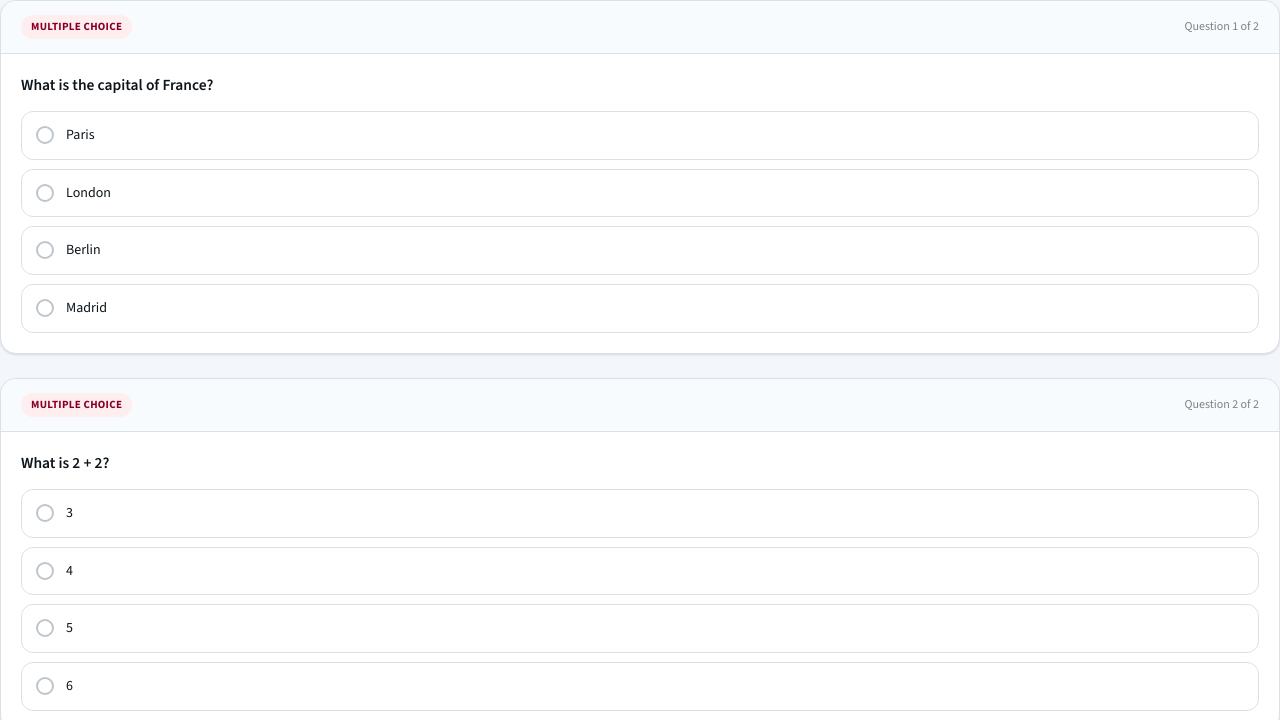
Test case: QuizForm › enables submit button when all questions are answered
Click an option for each question
Click the button "Paris": (45, 135) [21,111,1259,160]
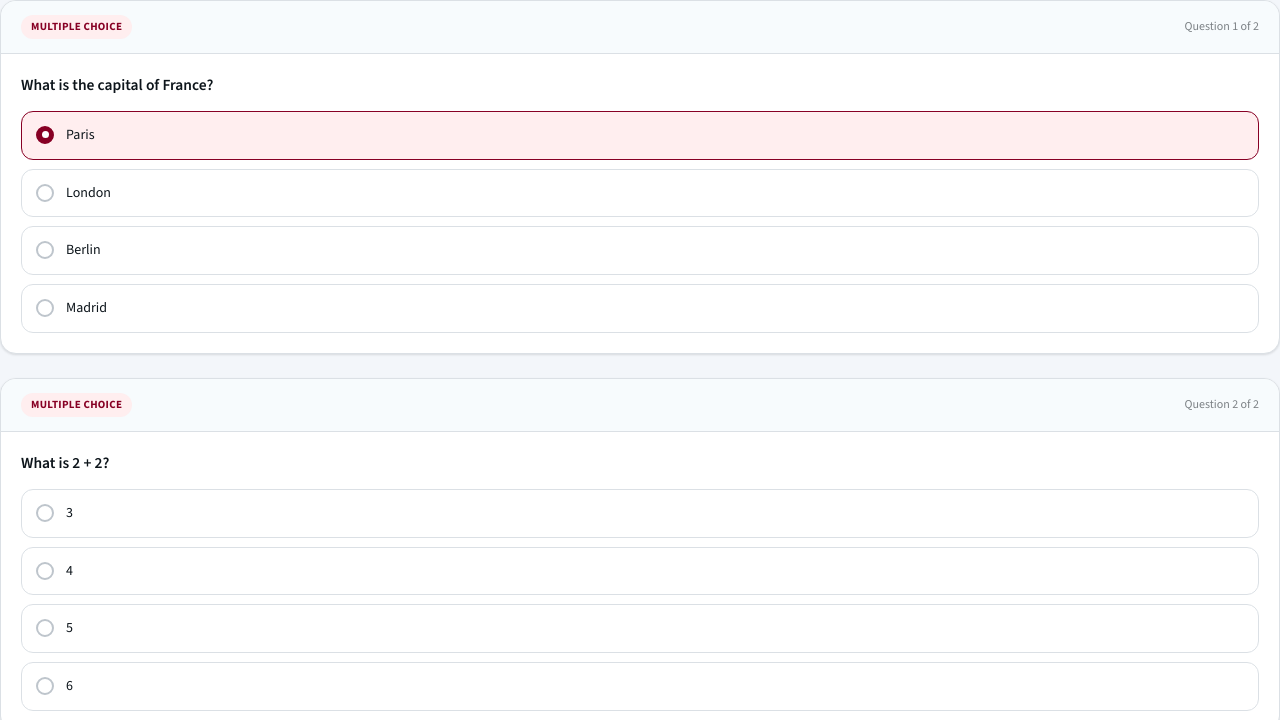
Click the button "4": (45, 571) [21,547,1259,595]
(page scrolled)
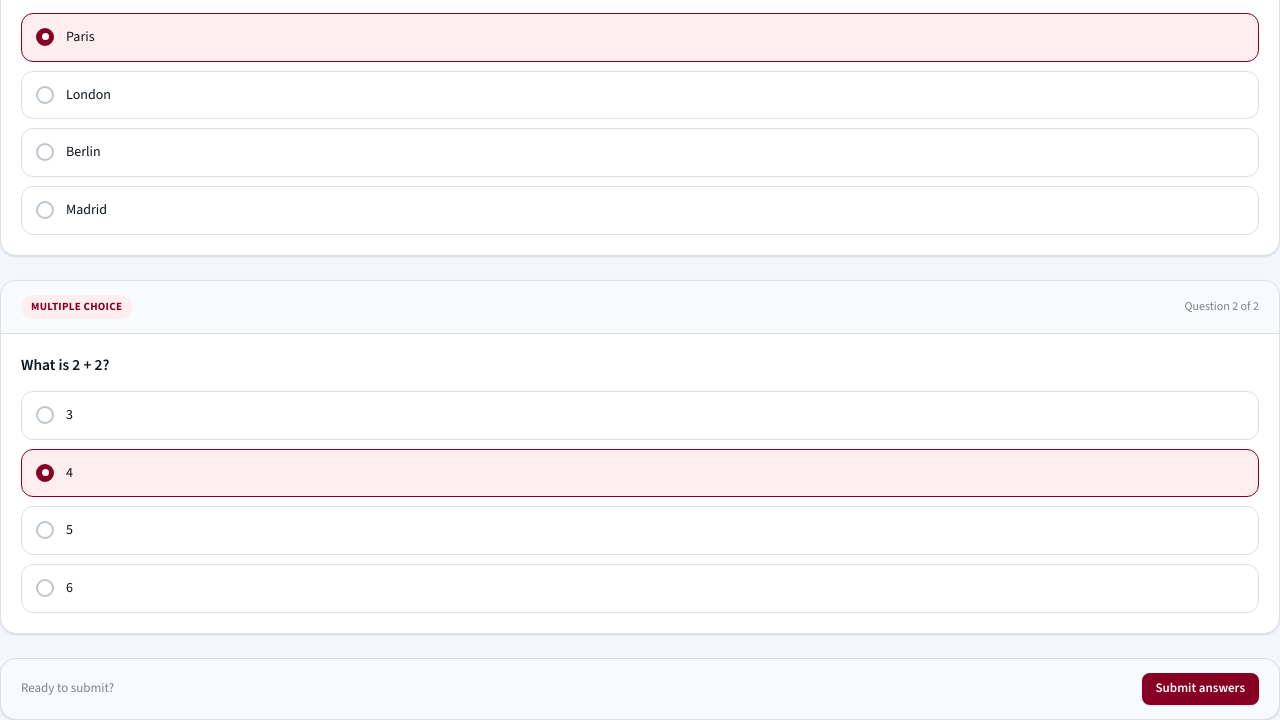
Result: the button "Submit answers" is enabled at [1142,673,1259,705]
